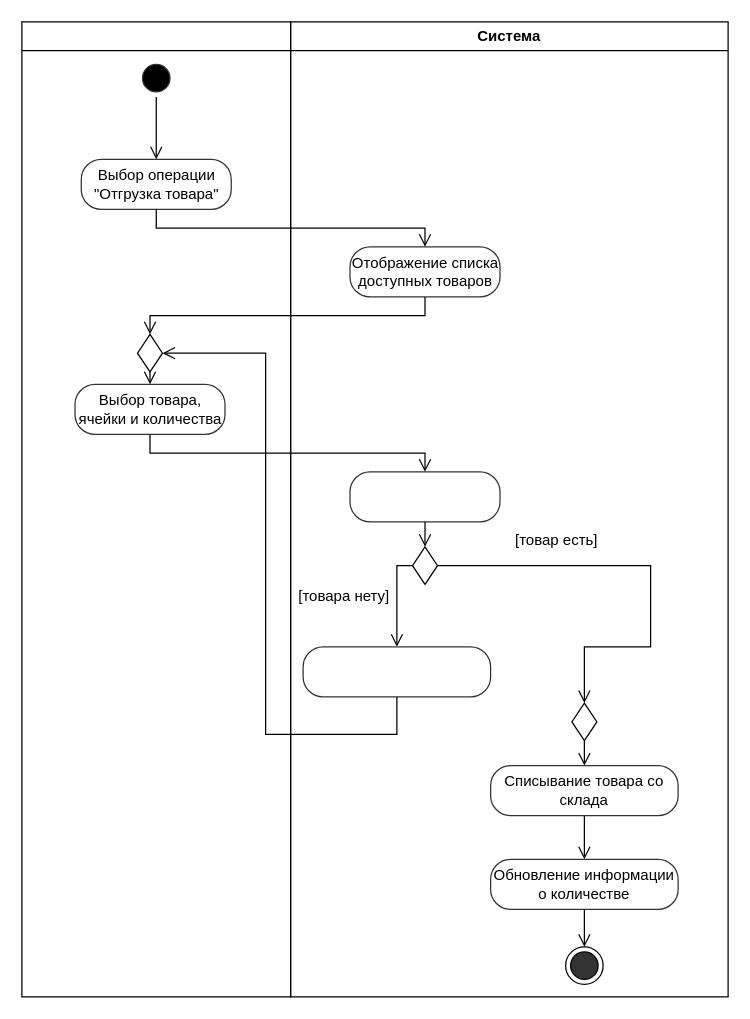
This 750x1019 diagram has some shape labels left out. The box of each missing label's shape, as (x1, y1, x2, y2) in pixels:
Вывод сообщения об отсутствии: (302, 646, 491, 697)
Кладовщик: (21, 21, 291, 997)
Проверка наличия товара: (349, 471, 500, 522)
